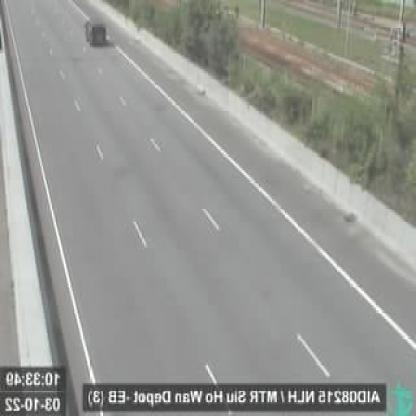Car: (87, 19, 107, 45)
